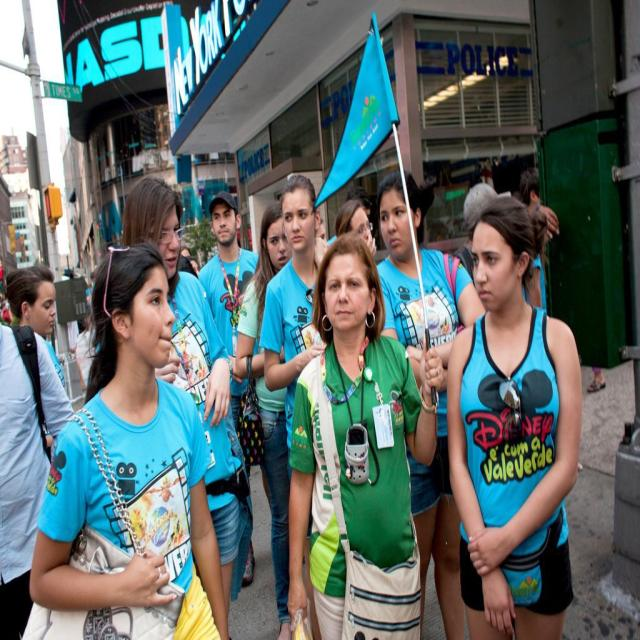body: (28, 239, 231, 640), (285, 224, 446, 639), (443, 188, 585, 639), (367, 164, 497, 639), (117, 179, 235, 632), (196, 190, 274, 590), (234, 200, 297, 639), (257, 174, 331, 471), (3, 273, 72, 449), (3, 264, 66, 454), (453, 165, 502, 262), (519, 163, 549, 317), (334, 198, 378, 258), (81, 281, 103, 365), (527, 202, 561, 246), (313, 196, 336, 258), (176, 226, 204, 274), (586, 355, 616, 398)
